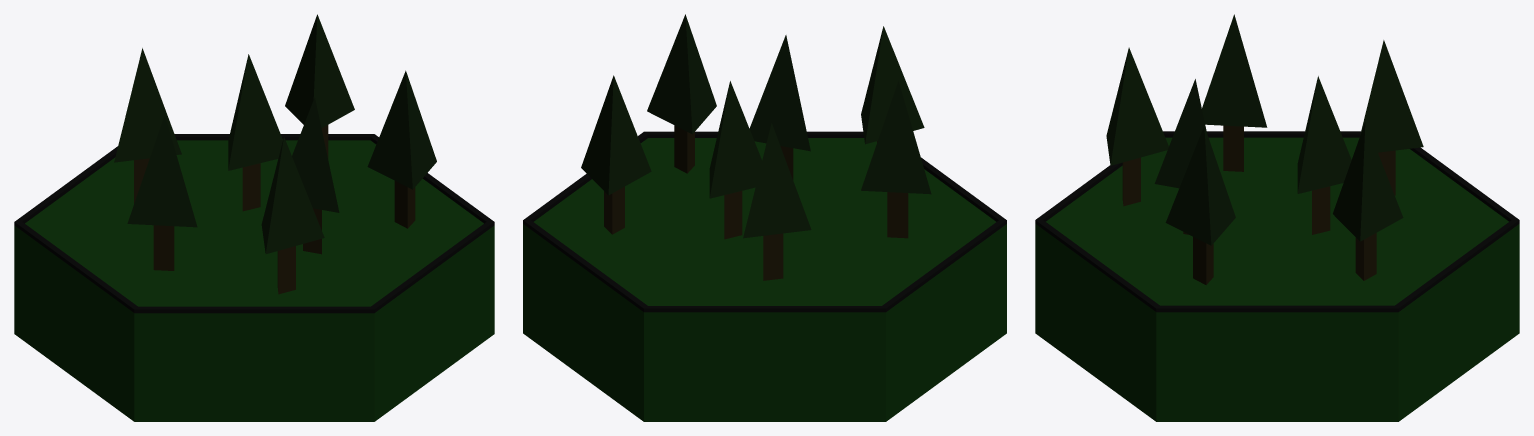
File: hexagon_forest.obj
3 renders of one model, left to right at view 1: azimuth 30°, elevation 25°; view 2: azimuth 150°, elevation 25°; view 3: azimuth 270°, elevation 25°, orthographic.
Visible parts, largest first — view 1: Cylinder, Cone.001, Cone.003, Cone.004, Cone.002, Cone, Cone.005, Cone.006, Cylinder.004, Cylinder.002, Cylinder.001, Cylinder.003; view 2: Cylinder, Cone.004, Cone.001, Cone.003, Cone.005, Cone, Cone.006, Cone.002, Cylinder.004, Cylinder.006, Cylinder.001, Cylinder.002 (+1 smaller); view 3: Cylinder, Cone.004, Cone.001, Cone.002, Cone.003, Cone, Cone.005, Cone.006, Cylinder.004, Cylinder.005, Cylinder.001, Cylinder.002 (+2 smaller).
Boxes of the visible parts, x1=… form: Cylinder: x1=14, y1=134, x2=494, y2=421; Cone.001: x1=367, y1=70, x2=436, y2=189; Cone.003: x1=127, y1=115, x2=197, y2=227; Cone.004: x1=285, y1=14, x2=354, y2=127; Cone.002: x1=261, y1=137, x2=324, y2=253; Cone: x1=228, y1=54, x2=282, y2=170; Cone.005: x1=114, y1=48, x2=181, y2=162; Cone.006: x1=292, y1=97, x2=339, y2=212; Cylinder.004: x1=153, y1=225, x2=174, y2=270; Cylinder.002: x1=394, y1=181, x2=415, y2=228; Cylinder.001: x1=242, y1=163, x2=260, y2=211; Cylinder.003: x1=277, y1=246, x2=295, y2=294; Cylinder: x1=523, y1=131, x2=1006, y2=421; Cone.004: x1=581, y1=75, x2=651, y2=195; Cone.001: x1=647, y1=14, x2=716, y2=134; Cone.003: x1=861, y1=81, x2=931, y2=194; Cone.005: x1=743, y1=123, x2=811, y2=238; Cone: x1=709, y1=81, x2=761, y2=198; Cone.006: x1=749, y1=35, x2=810, y2=151; Cone.002: x1=861, y1=26, x2=924, y2=144; Cylinder.004: x1=887, y1=192, x2=908, y2=238; Cylinder.006: x1=763, y1=233, x2=783, y2=280; Cylinder.001: x1=724, y1=191, x2=742, y2=239; Cylinder.002: x1=674, y1=125, x2=694, y2=173; Cylinder: x1=1035, y1=131, x2=1519, y2=421; Cone.004: x1=1333, y1=121, x2=1403, y2=241; Cone.001: x1=1165, y1=126, x2=1235, y2=245; Cone.002: x1=1106, y1=47, x2=1168, y2=165; Cone.003: x1=1202, y1=14, x2=1267, y2=127; Cone: x1=1297, y1=76, x2=1351, y2=193; Cone.005: x1=1360, y1=40, x2=1423, y2=152; Cone.006: x1=1154, y1=79, x2=1206, y2=188; Cylinder.004: x1=1223, y1=125, x2=1243, y2=171; Cylinder.005: x1=1355, y1=233, x2=1376, y2=280; Cylinder.001: x1=1312, y1=186, x2=1330, y2=234; Cylinder.002: x1=1193, y1=237, x2=1213, y2=284.
Bounding box in the file's own units: 1.73 × 1.21 × 2.
